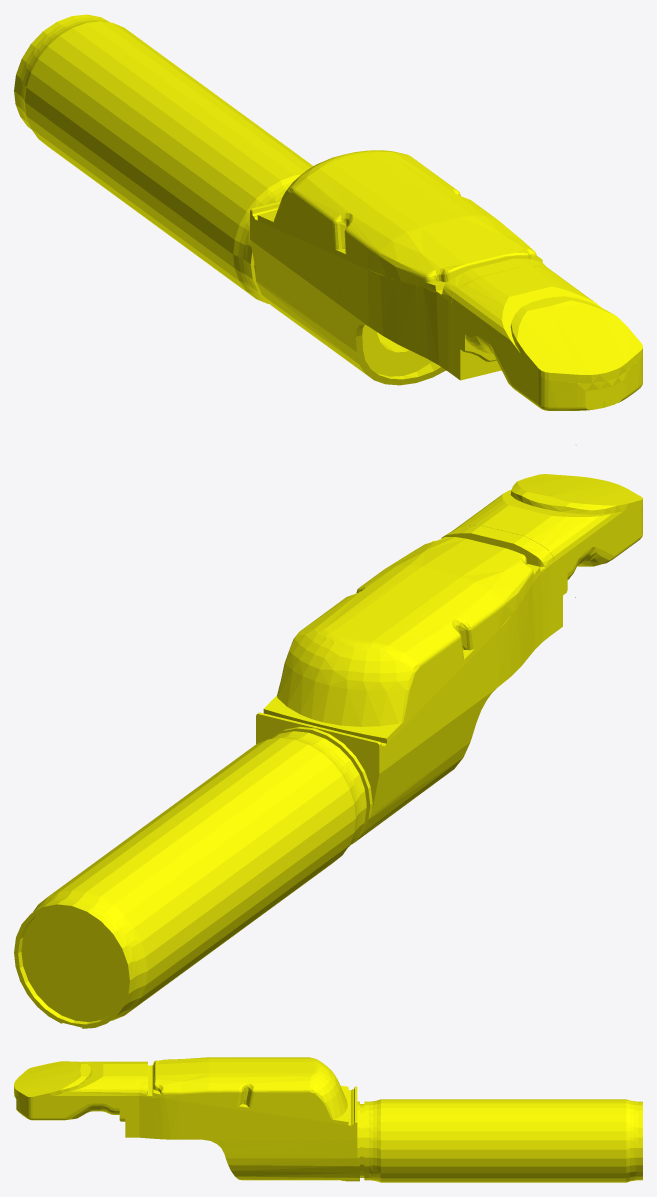
3 renders of one model, top to bottom at view 1: azimuth 30°, elevation 25°; view 2: azimuth 150°, elevation 25°; view 3: azimuth 270°, elevation 25°, orthographic. The views are drawn at different scales.
Visible parts, largest first — view 1: node; view 2: node; view 3: node.
Boxes of the visible parts, <box> form: node: <box>14,14,642,445</box>; node: <box>14,474,642,1028</box>; node: <box>14,1057,642,1182</box>.
Size of the model in its own units: 123 by 176 by 901.
